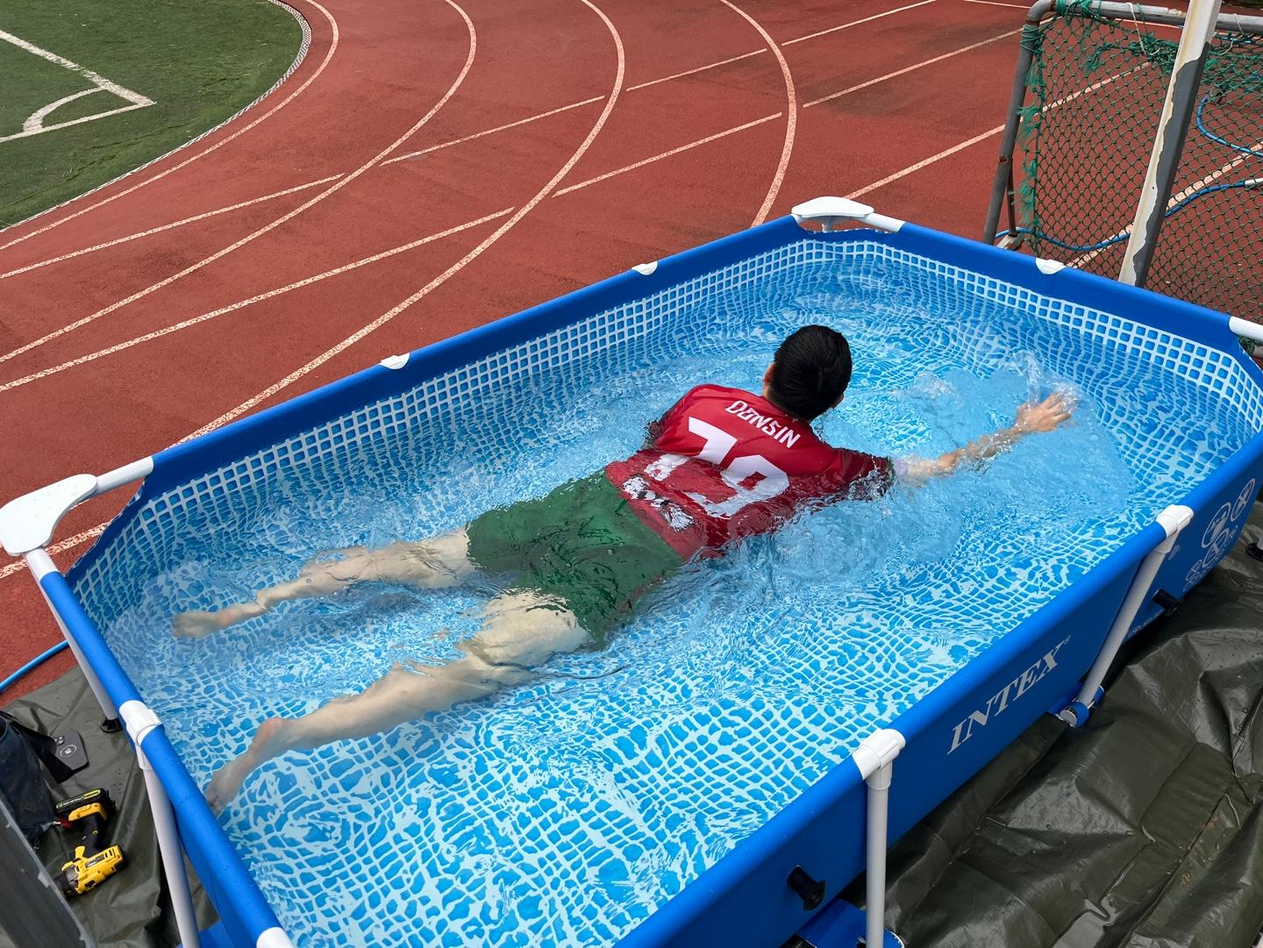Swimming: (95, 186, 1141, 822)
